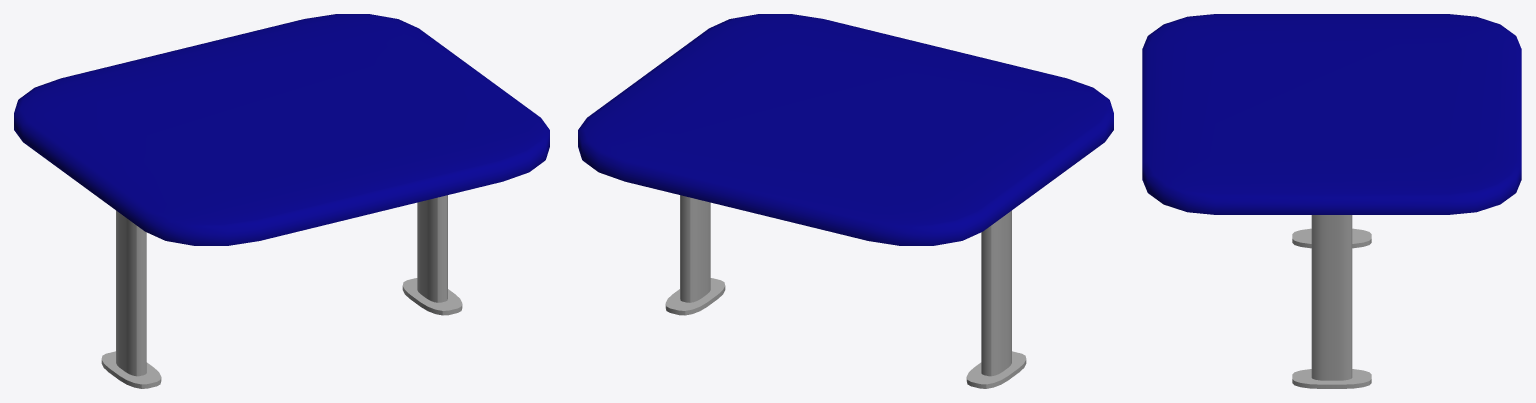
The model's file is mesa.fbx.
3 views of the same model, side by side, from view 1: azimuth 30°, elevation 25°; view 2: azimuth 150°, elevation 25°; view 3: azimuth 270°, elevation 25° (orthographic). The views are drawn at different scales.
Parts seen in each view (by area): view 1: Mesa; view 2: Mesa; view 3: Mesa.
Part boxes in pixels (<box>): Mesa: <box>14,14,549,388</box>; Mesa: <box>578,14,1113,388</box>; Mesa: <box>1142,14,1521,388</box>.
Size of the model in its own units: 215 by 114 by 187.
